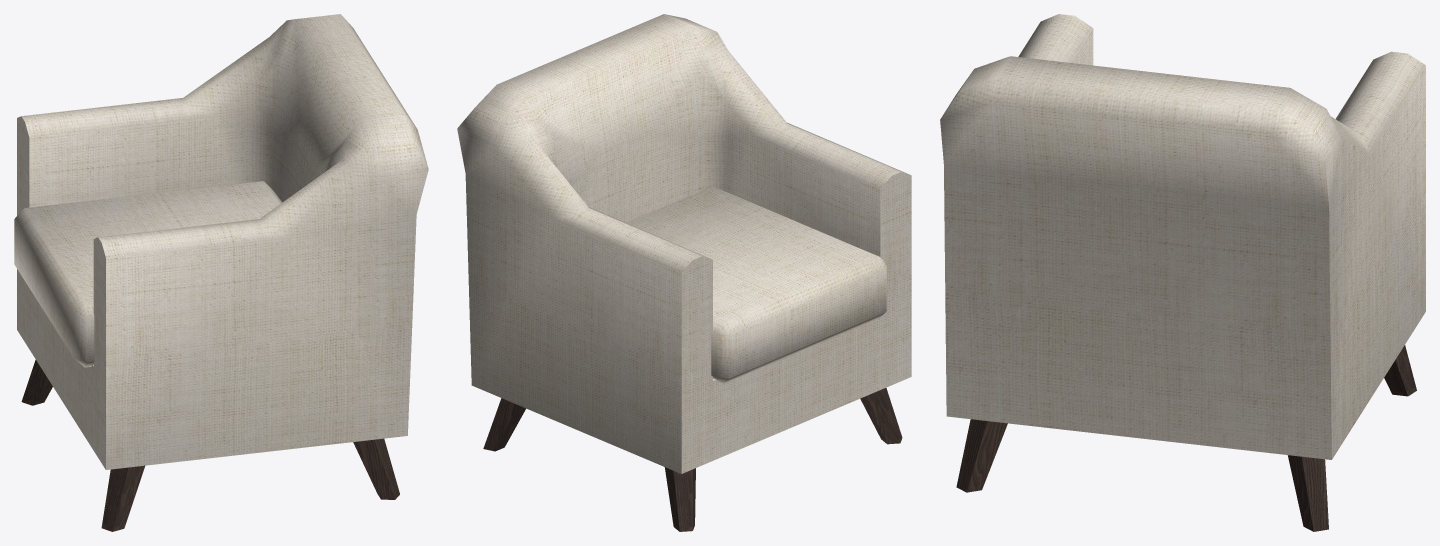
3 renders of one model, left to right at view 1: azimuth 30°, elevation 25°; view 2: azimuth 150°, elevation 25°; view 3: azimuth 270°, elevation 25°, orthographic. The views are drawn at different scales.
Parts seen in each view (by area): view 1: Armchair_07001_Fabric_10_0, Armchair_07001_Wood_10001_0; view 2: Armchair_07001_Fabric_10_0, Armchair_07001_Wood_10001_0; view 3: Armchair_07001_Fabric_10_0, Armchair_07001_Wood_10001_0.
Boxes of the visible parts, x1,y1,x2,y2 form: Armchair_07001_Fabric_10_0: [14, 14, 428, 469]; Armchair_07001_Wood_10001_0: [21, 360, 399, 531]; Armchair_07001_Fabric_10_0: [457, 14, 911, 473]; Armchair_07001_Wood_10001_0: [483, 388, 902, 531]; Armchair_07001_Fabric_10_0: [940, 14, 1425, 459]; Armchair_07001_Wood_10001_0: [956, 345, 1416, 531].
Size of the model in its own units: 0.8794 by 0.8542 by 0.8865.
2 materials, 2 textured.
